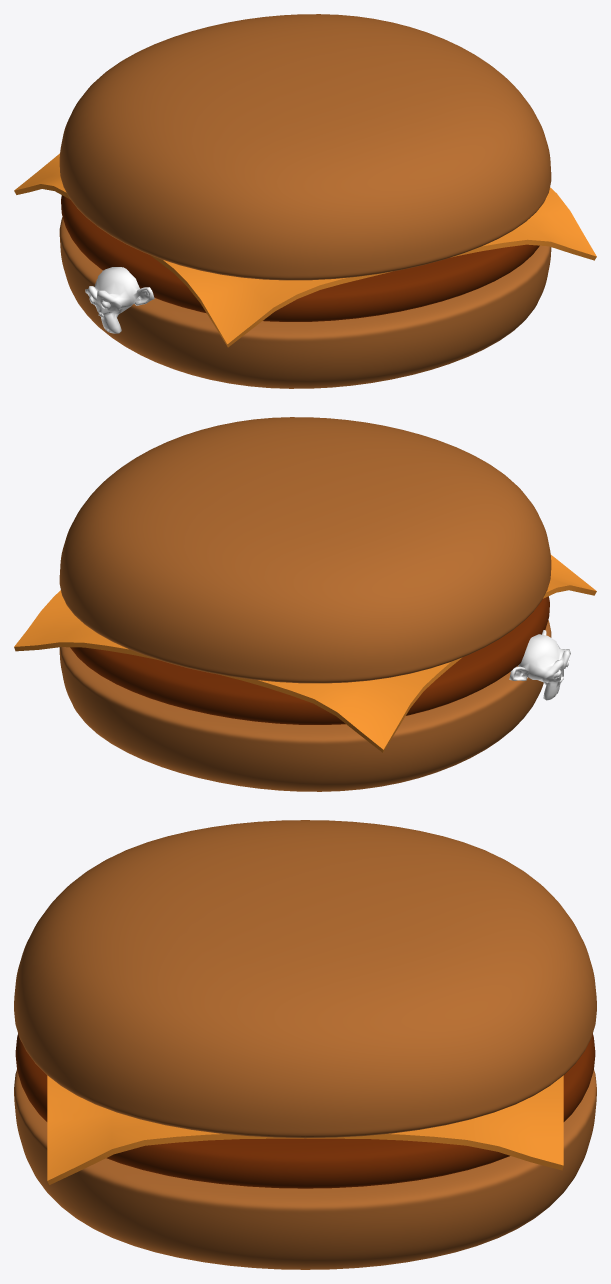
File: hamburger.glb
The picture shows the model from 3 angles, top to bottom: view 1: azimuth 30°, elevation 25°; view 2: azimuth 150°, elevation 25°; view 3: azimuth 270°, elevation 25°; orthographic projection. The views are drawn at different scales.
Visible parts, largest first — view 1: Cube.002, Cube, Cube.001, Plane, Suzanne.003; view 2: Cube.002, Cube, Cube.001, Plane, Suzanne.003; view 3: Cube.002, Cube, Cube.001, Plane.
Part boxes in pixels (<box>): Cube.002: <box>59,14,551,280</box>; Cube: <box>59,217,551,388</box>; Cube.001: <box>61,195,539,321</box>; Plane: <box>14,153,596,347</box>; Suzanne.003: <box>85,267,154,333</box>; Cube.002: <box>59,417,551,683</box>; Cube: <box>59,620,551,791</box>; Cube.001: <box>70,596,549,724</box>; Plane: <box>14,554,596,752</box>; Suzanne.003: <box>509,630,570,700</box>; Cube.002: <box>14,820,596,1138</box>; Cube: <box>14,1070,596,1269</box>; Cube.001: <box>15,1033,595,1188</box>; Plane: <box>47,1075,563,1184</box>.
Bounding box in the file's own units: 9.68 × 5.09 × 9.05.
